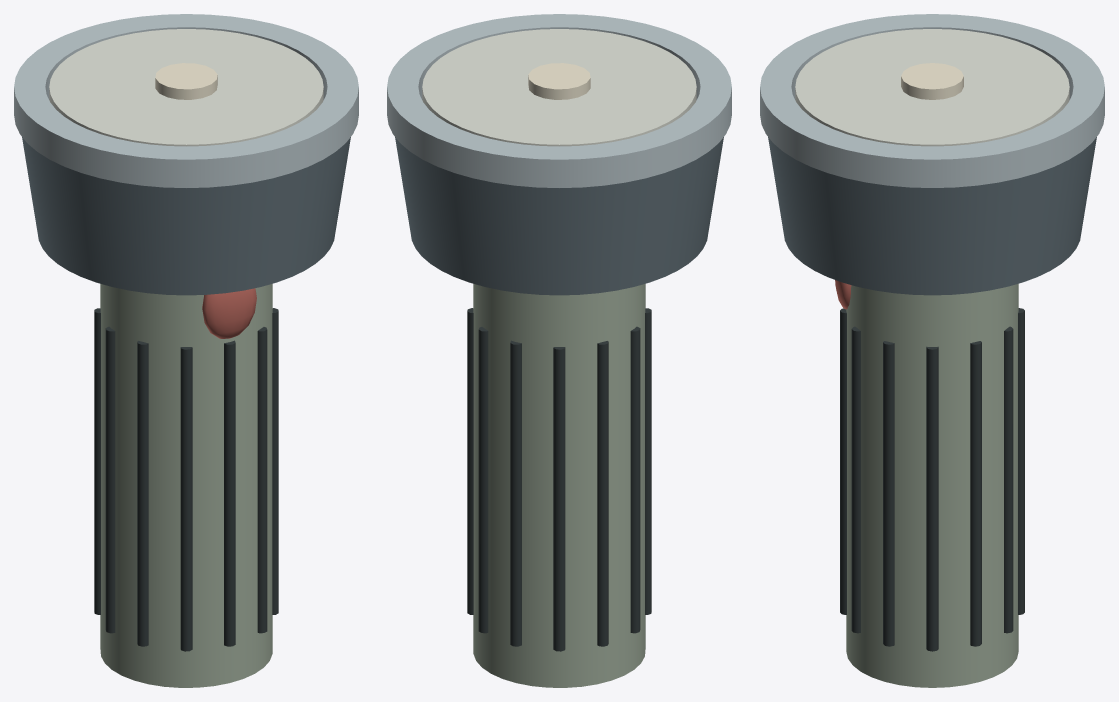
Rendered from loot_flashlight.glb.
3 renders of one model, left to right at view 1: azimuth 30°, elevation 25°; view 2: azimuth 150°, elevation 25°; view 3: azimuth 270°, elevation 25°, orthographic.
Visible parts, largest first — view 1: loot_flashlight; view 2: loot_flashlight; view 3: loot_flashlight.
Boxes of the visible parts, x1,y1,x2,y2 form: loot_flashlight: [14, 14, 358, 687]; loot_flashlight: [387, 14, 731, 687]; loot_flashlight: [760, 14, 1104, 687].
Size of the model in its own units: 0.088 by 0.162 by 0.088.
